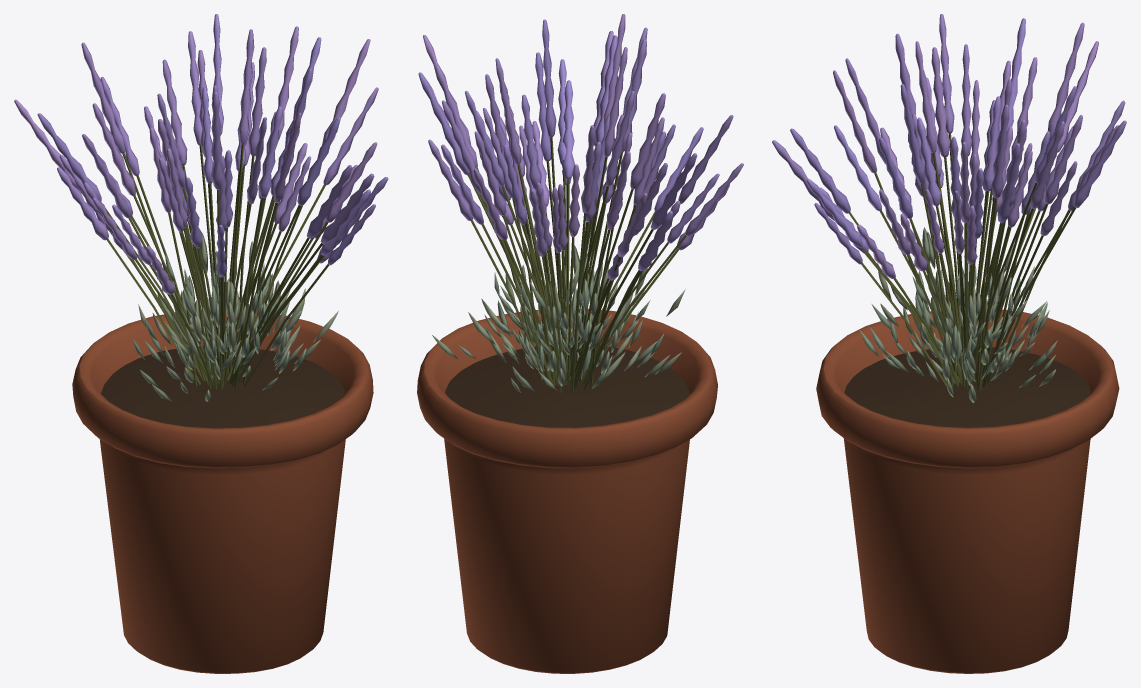
File: pot_lavender.glb
The picture shows the model from 3 angles, left to right: view 1: azimuth 30°, elevation 25°; view 2: azimuth 150°, elevation 25°; view 3: azimuth 270°, elevation 25°; orthographic projection.
Visible parts, largest first — view 1: Sammel Putz, Sammel Pflanze; view 2: Sammel Putz, Sammel Pflanze; view 3: Sammel Putz, Sammel Pflanze.
Part boxes in pixels (box(x1,y1,x2,y2)): Sammel Putz: box(72, 136, 373, 673); Sammel Pflanze: box(14, 14, 388, 401); Sammel Putz: box(417, 137, 717, 673); Sammel Pflanze: box(418, 14, 743, 392); Sammel Putz: box(816, 133, 1119, 673); Sammel Pflanze: box(772, 14, 1126, 402).
Bounding box in the file's own units: 0.5614 × 1.01 × 0.5608.
